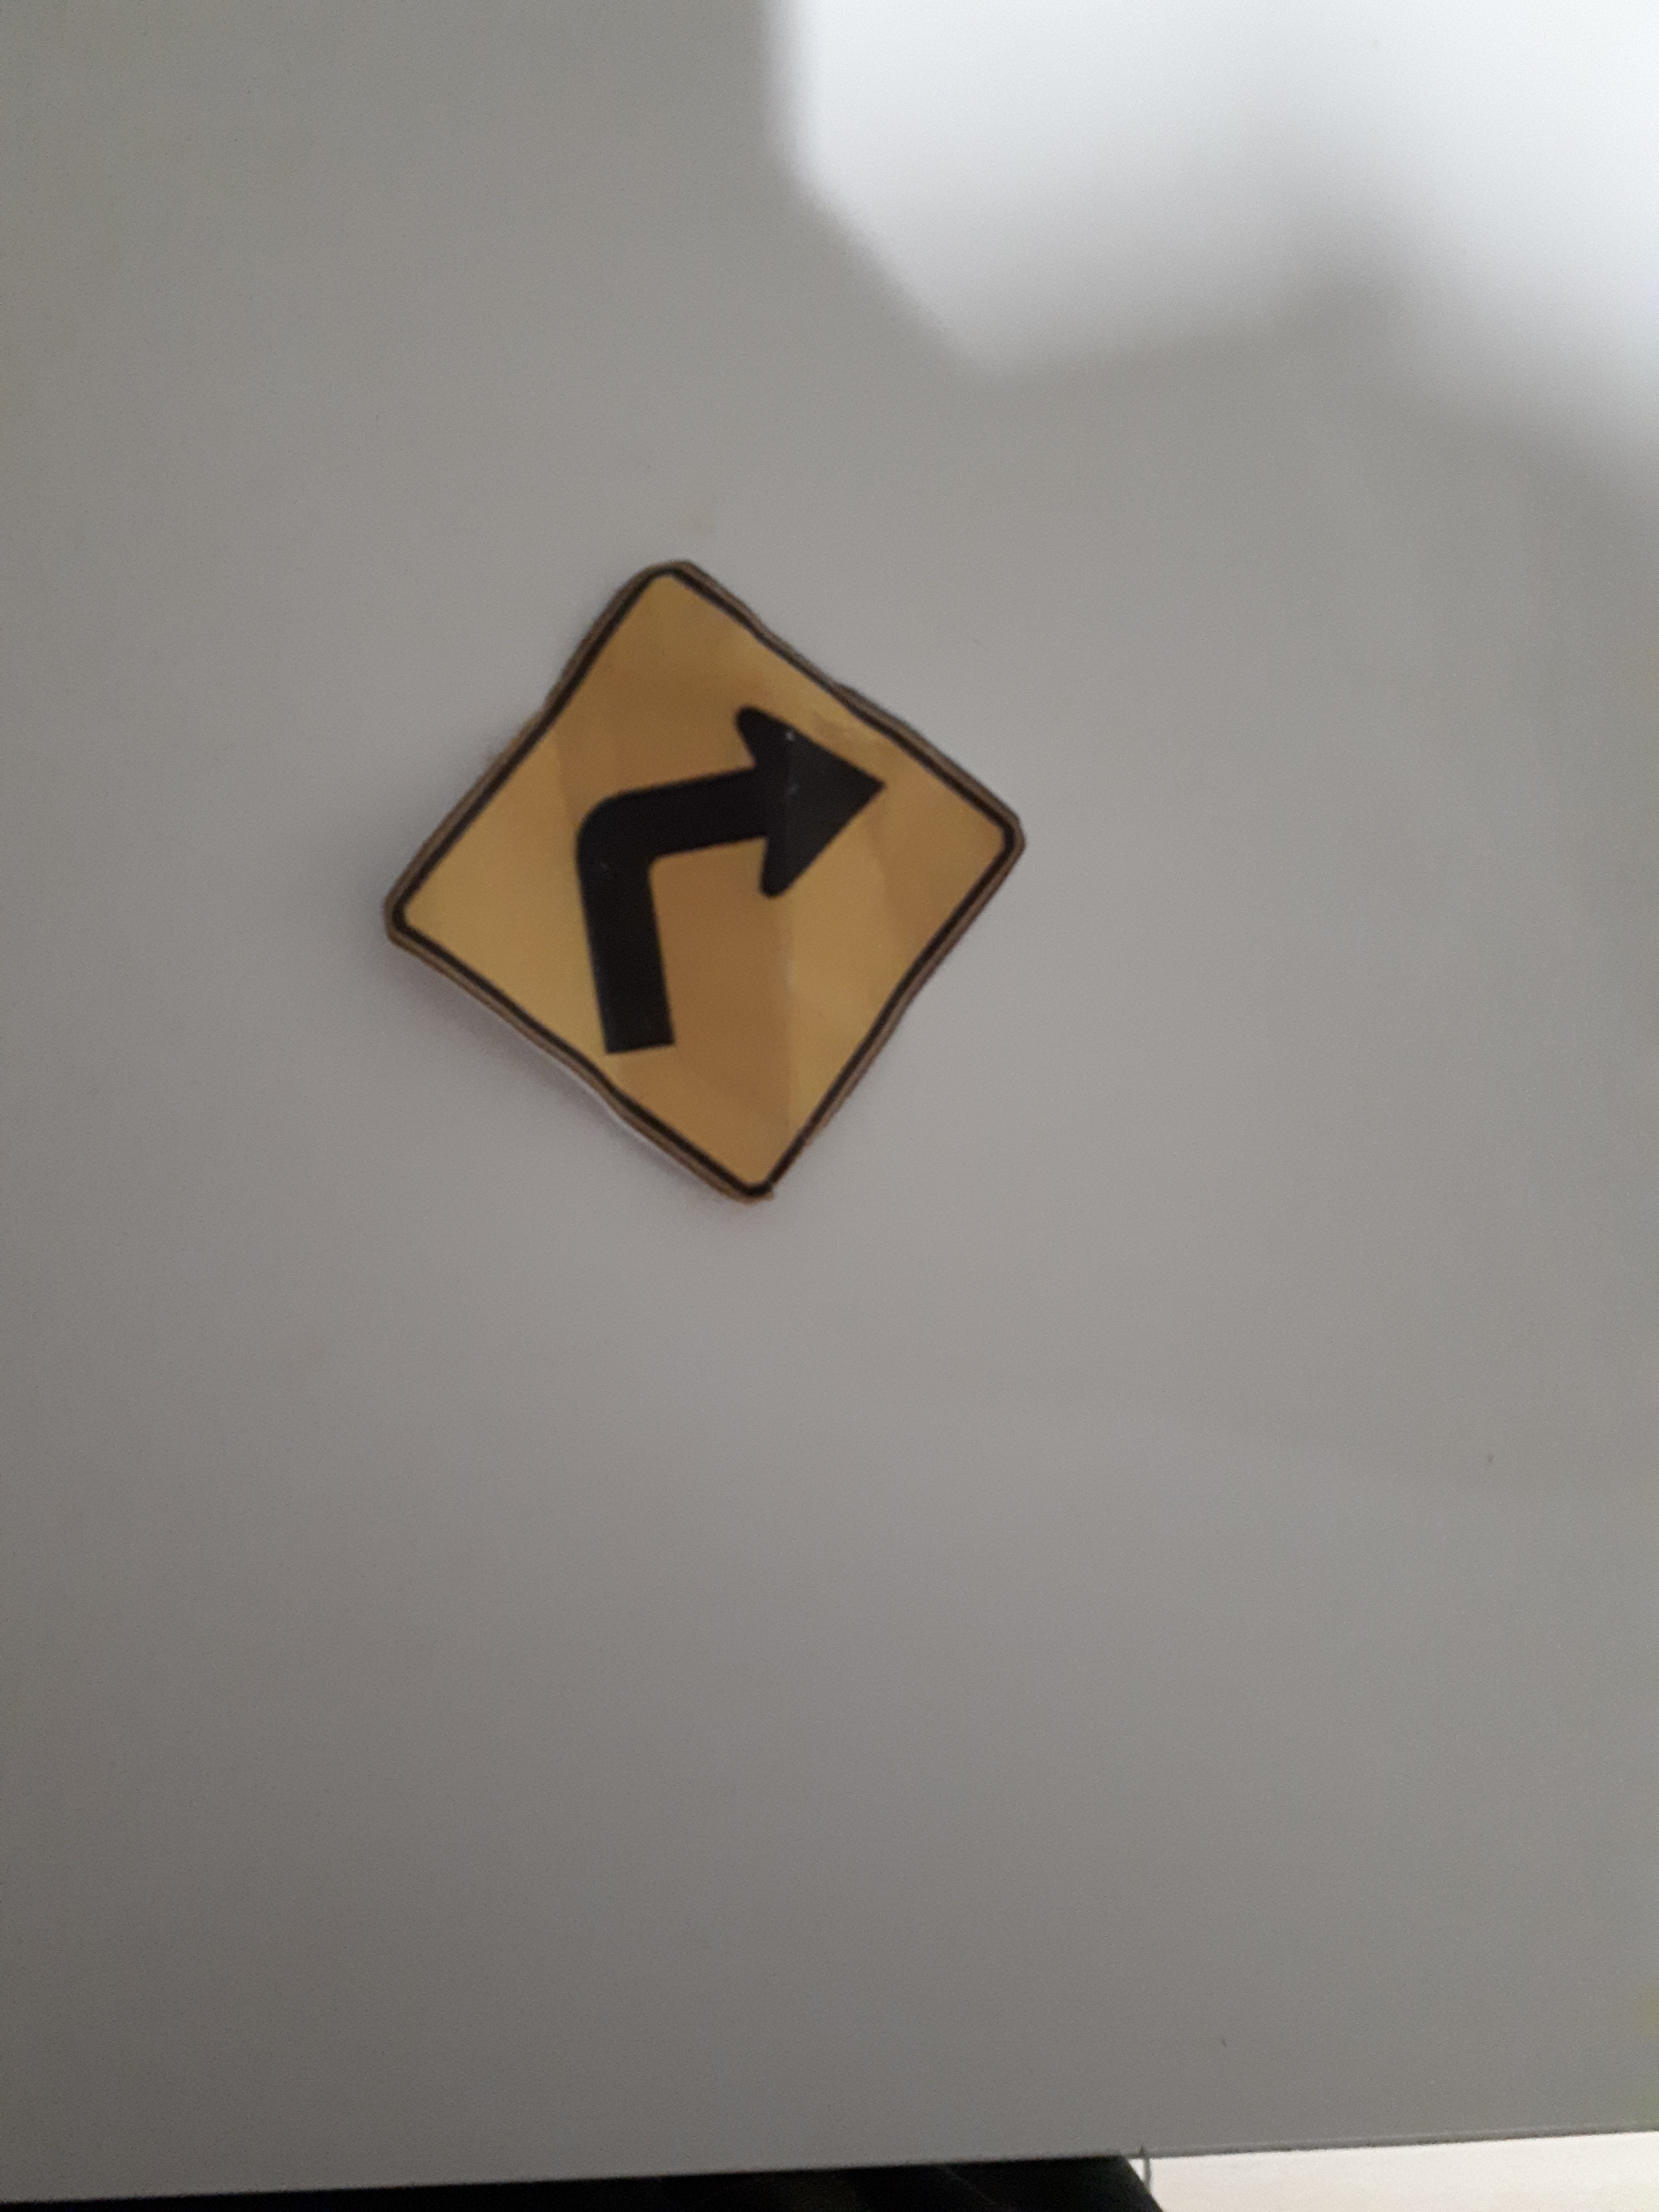right: (364, 554, 1033, 1219), (537, 688, 931, 1127), (505, 648, 950, 928), (694, 676, 932, 946)
